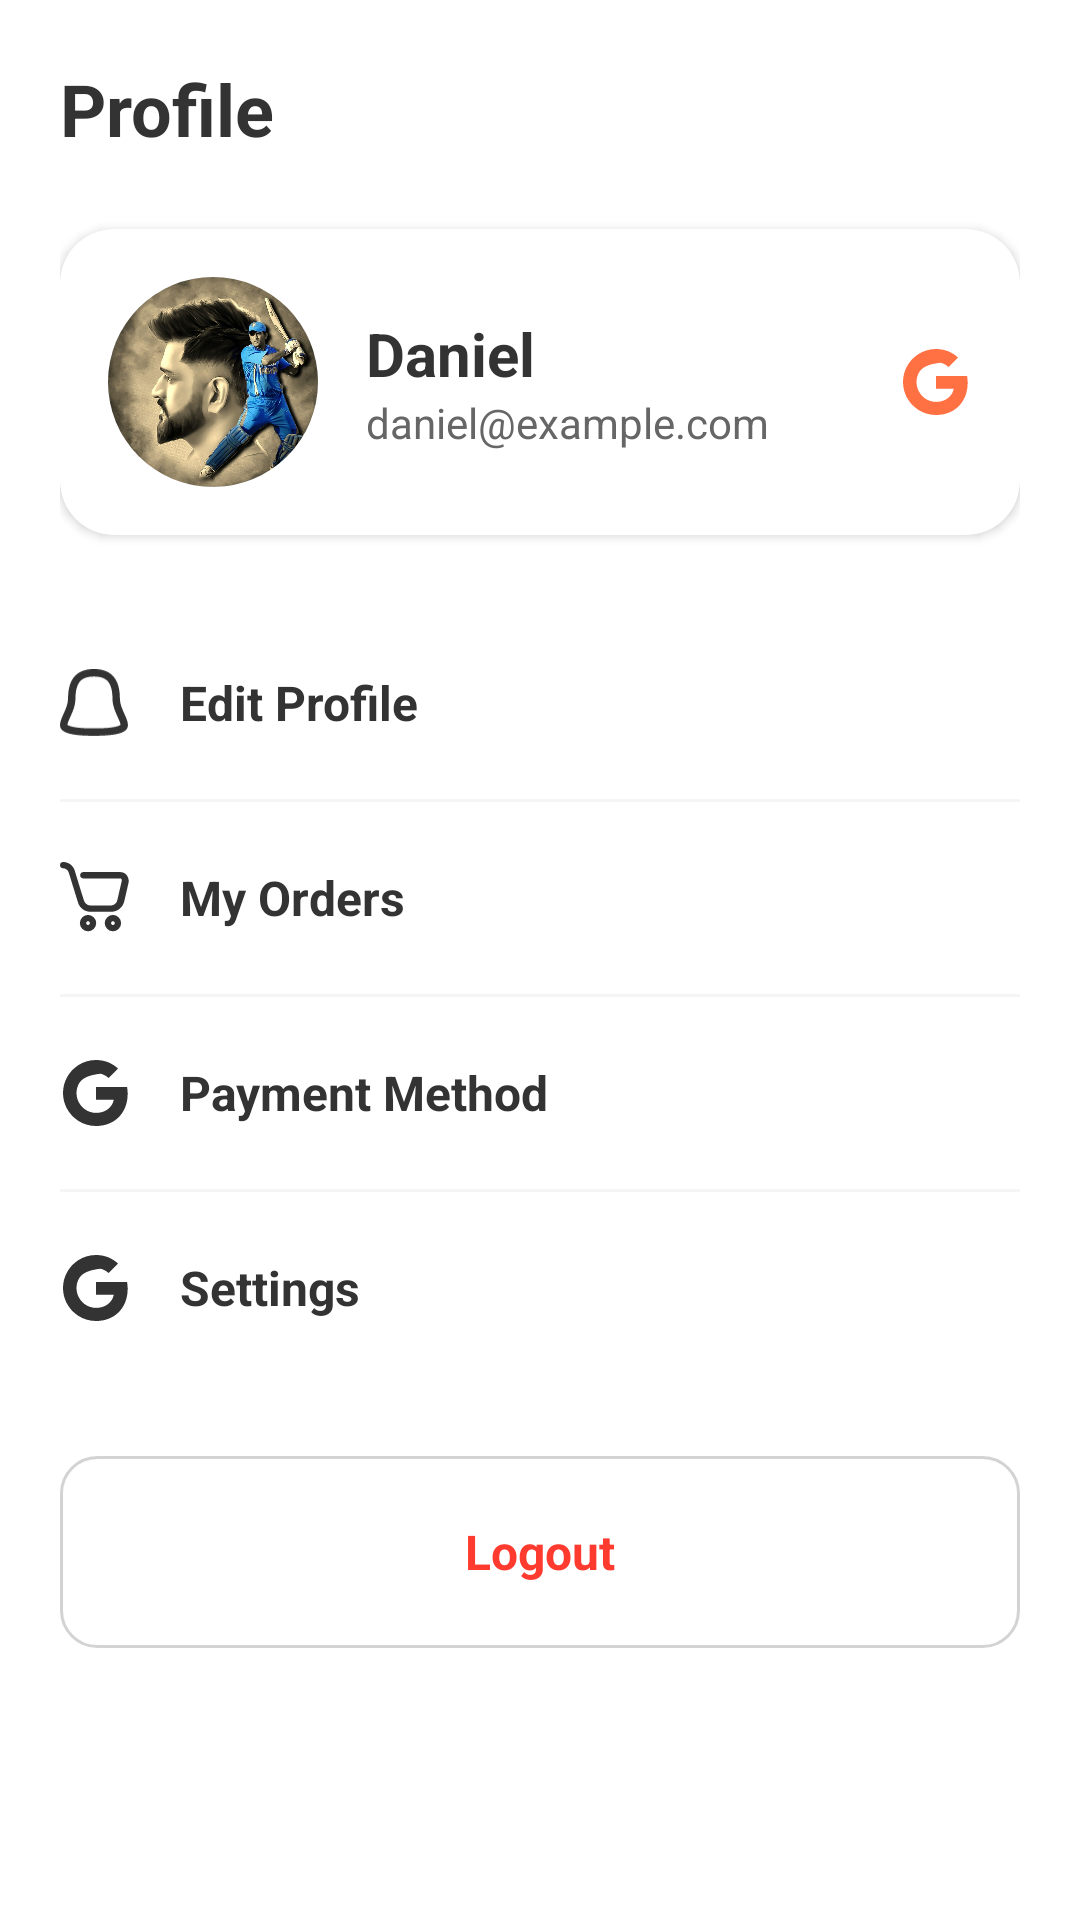

Where icons sit on this 1080px x 1920px app screen, as (x1, y1, x2, y2):
cart: (60, 862, 129, 932)
